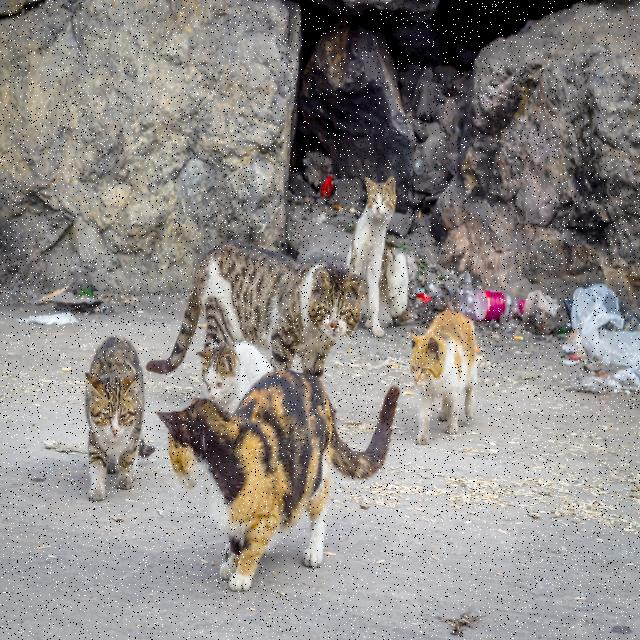cat: (158, 370, 400, 592), (146, 242, 362, 379), (85, 335, 155, 501), (348, 177, 409, 337), (410, 312, 478, 445), (198, 343, 272, 413)
